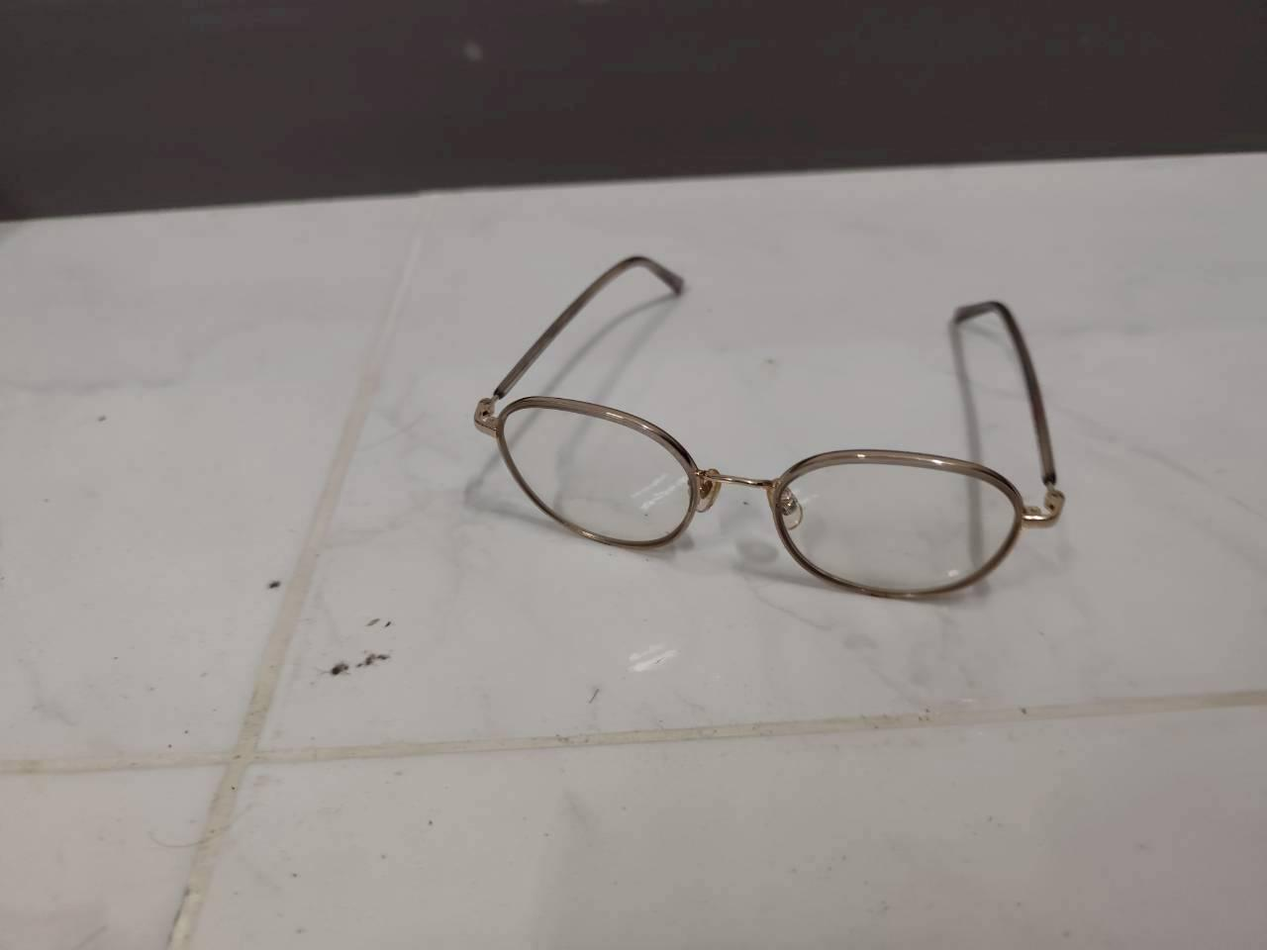glasses: (457, 238, 1081, 610)
